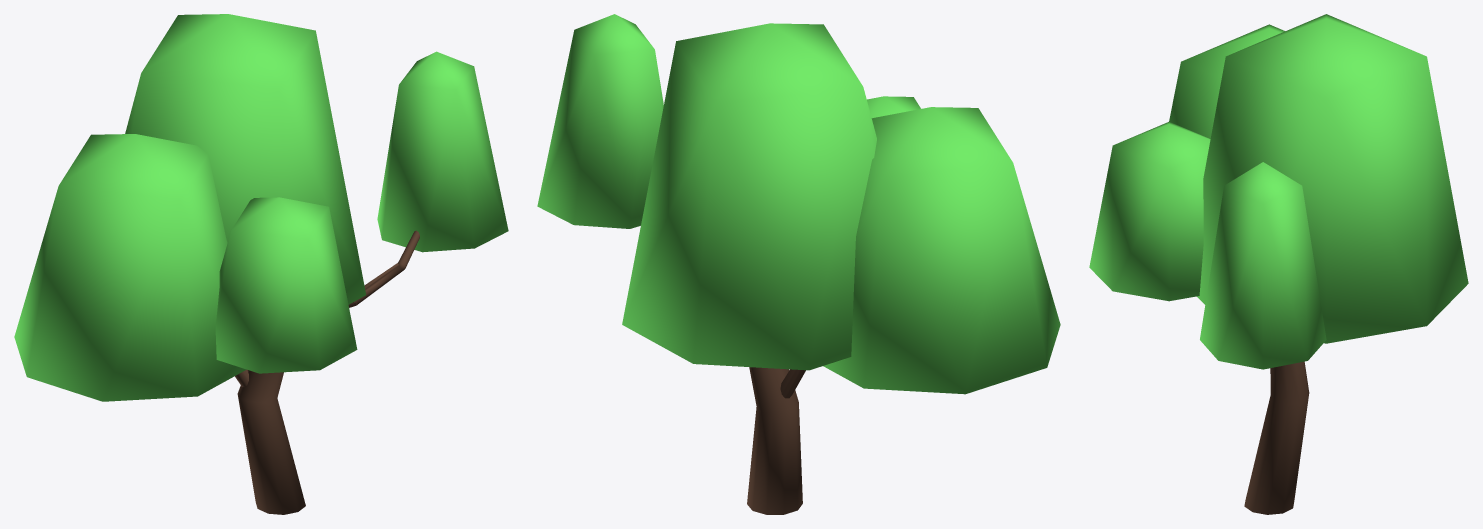
File: SwampTree_Medium1.fbx
3 renders of one model, left to right at view 1: azimuth 30°, elevation 25°; view 2: azimuth 150°, elevation 25°; view 3: azimuth 270°, elevation 25°, orthographic. The views are drawn at different scales.
Parts seen in each view (by area): view 1: SwampTree_Medium1; view 2: SwampTree_Medium1; view 3: SwampTree_Medium1.
Part boxes in pixels (box(x1,y1,x2,y2)): SwampTree_Medium1: box(14, 14, 508, 514); SwampTree_Medium1: box(537, 14, 1060, 514); SwampTree_Medium1: box(1089, 14, 1468, 514).
Size of the model in its own units: 923 by 883 by 641.
